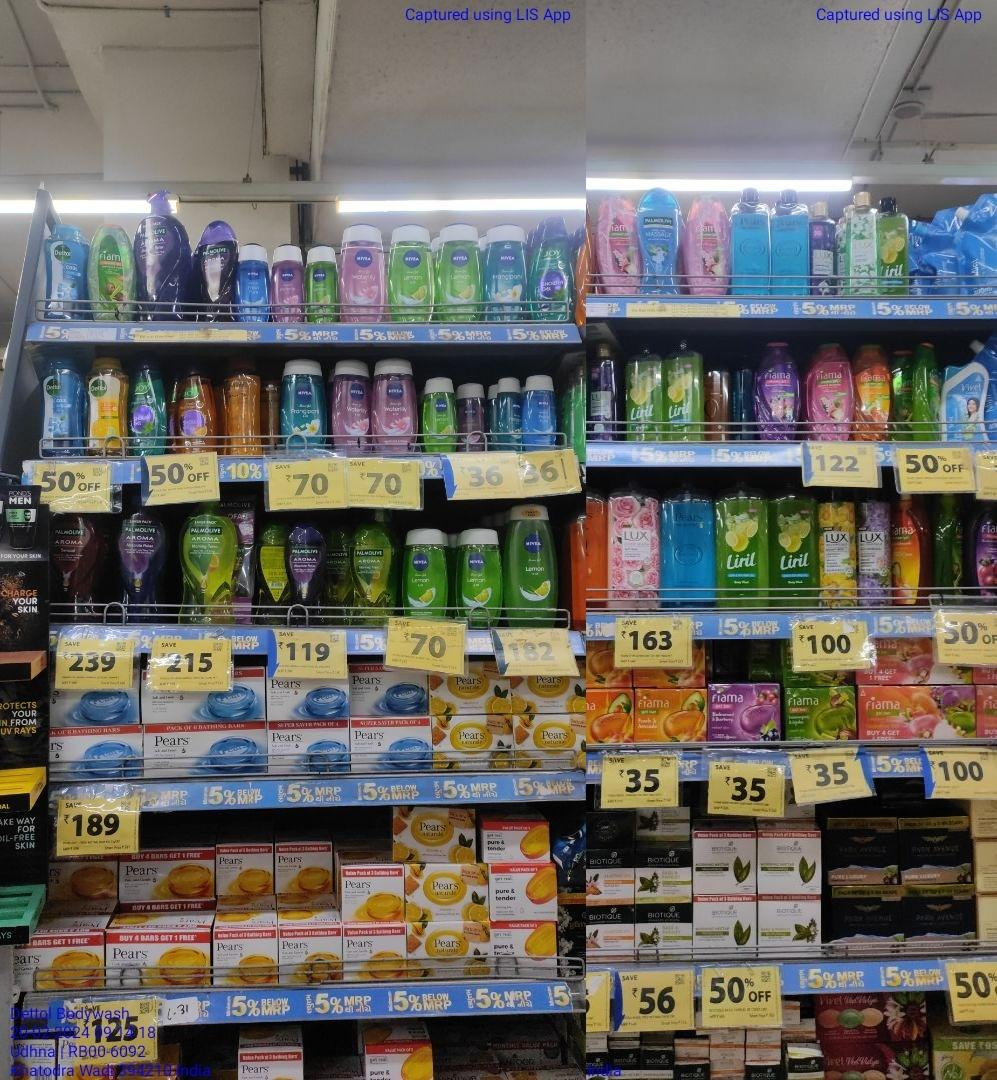Dettol_Bodywash_Cool: (44, 226, 87, 319), (43, 351, 81, 455)
Dettol_Bodywash_Refresh: (85, 359, 125, 454)
Fiama_Shower_Gel_Patchouli_and_Macadamia_250ML: (805, 345, 853, 439), (690, 195, 728, 293), (602, 193, 634, 295)
Joy_Shower_Gel_Mandarin_and_Lemongrass_250ML: (176, 360, 216, 453)
Joy_Shower_Gel_Mint_and_Eucalyptus_250ML: (530, 216, 576, 322), (129, 359, 167, 454)
Liril_Lime_and_Tea_Tree_Oil_Body_Wash_250ML: (662, 341, 705, 442), (625, 348, 660, 442), (880, 197, 909, 295)
Lux_Black_Orchid_Scent_and_Juniper_Oil_Body_Wash_245ML: (587, 342, 618, 441), (812, 202, 837, 294)
Lux_Body_Wash_Skin_Detox_Freesia_Scent_and_Alove_Vera_245ML: (846, 190, 878, 294)
Nivea_Shower_Gel_Frangipani_and_Oil_250ML: (279, 356, 326, 449), (486, 228, 527, 321)
Nivea_Shower_Gel_Lemon_and_Oil_250ML: (505, 504, 557, 621), (454, 524, 503, 625), (401, 528, 449, 620), (437, 226, 483, 321), (391, 225, 433, 323)
Nivea_Shower_Gel_Waterlily_and_Oil_250ML: (340, 222, 388, 322), (371, 358, 419, 453), (333, 355, 368, 453)
Palmolive_Aroma_Moments_Feel_The_Massage_Shower_Gel_250ML: (638, 191, 679, 298)
Palmolive_Aroma_Morning_Tonic_Shower_Gel_250ML: (346, 522, 393, 621)
Palmolive_Aroma_Relax_250ML: (285, 525, 325, 625), (197, 219, 235, 321)
Pears_Pure_Glycerin_and_Mint_Extracts_Body_Wash_250ML: (731, 188, 771, 294), (773, 189, 810, 298)
